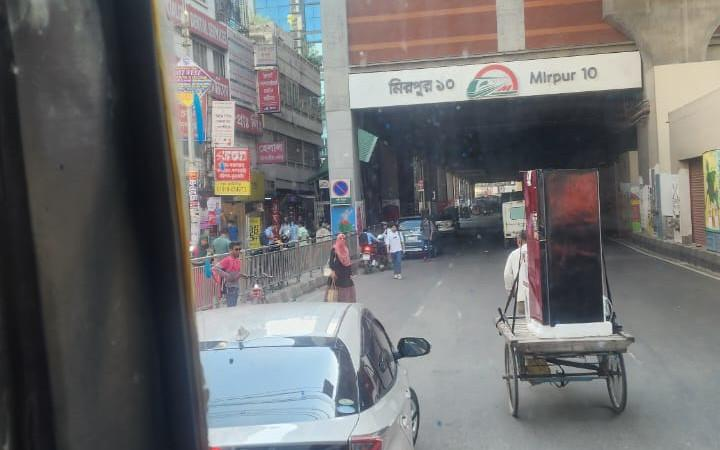No Parking: (330, 178, 352, 203)
